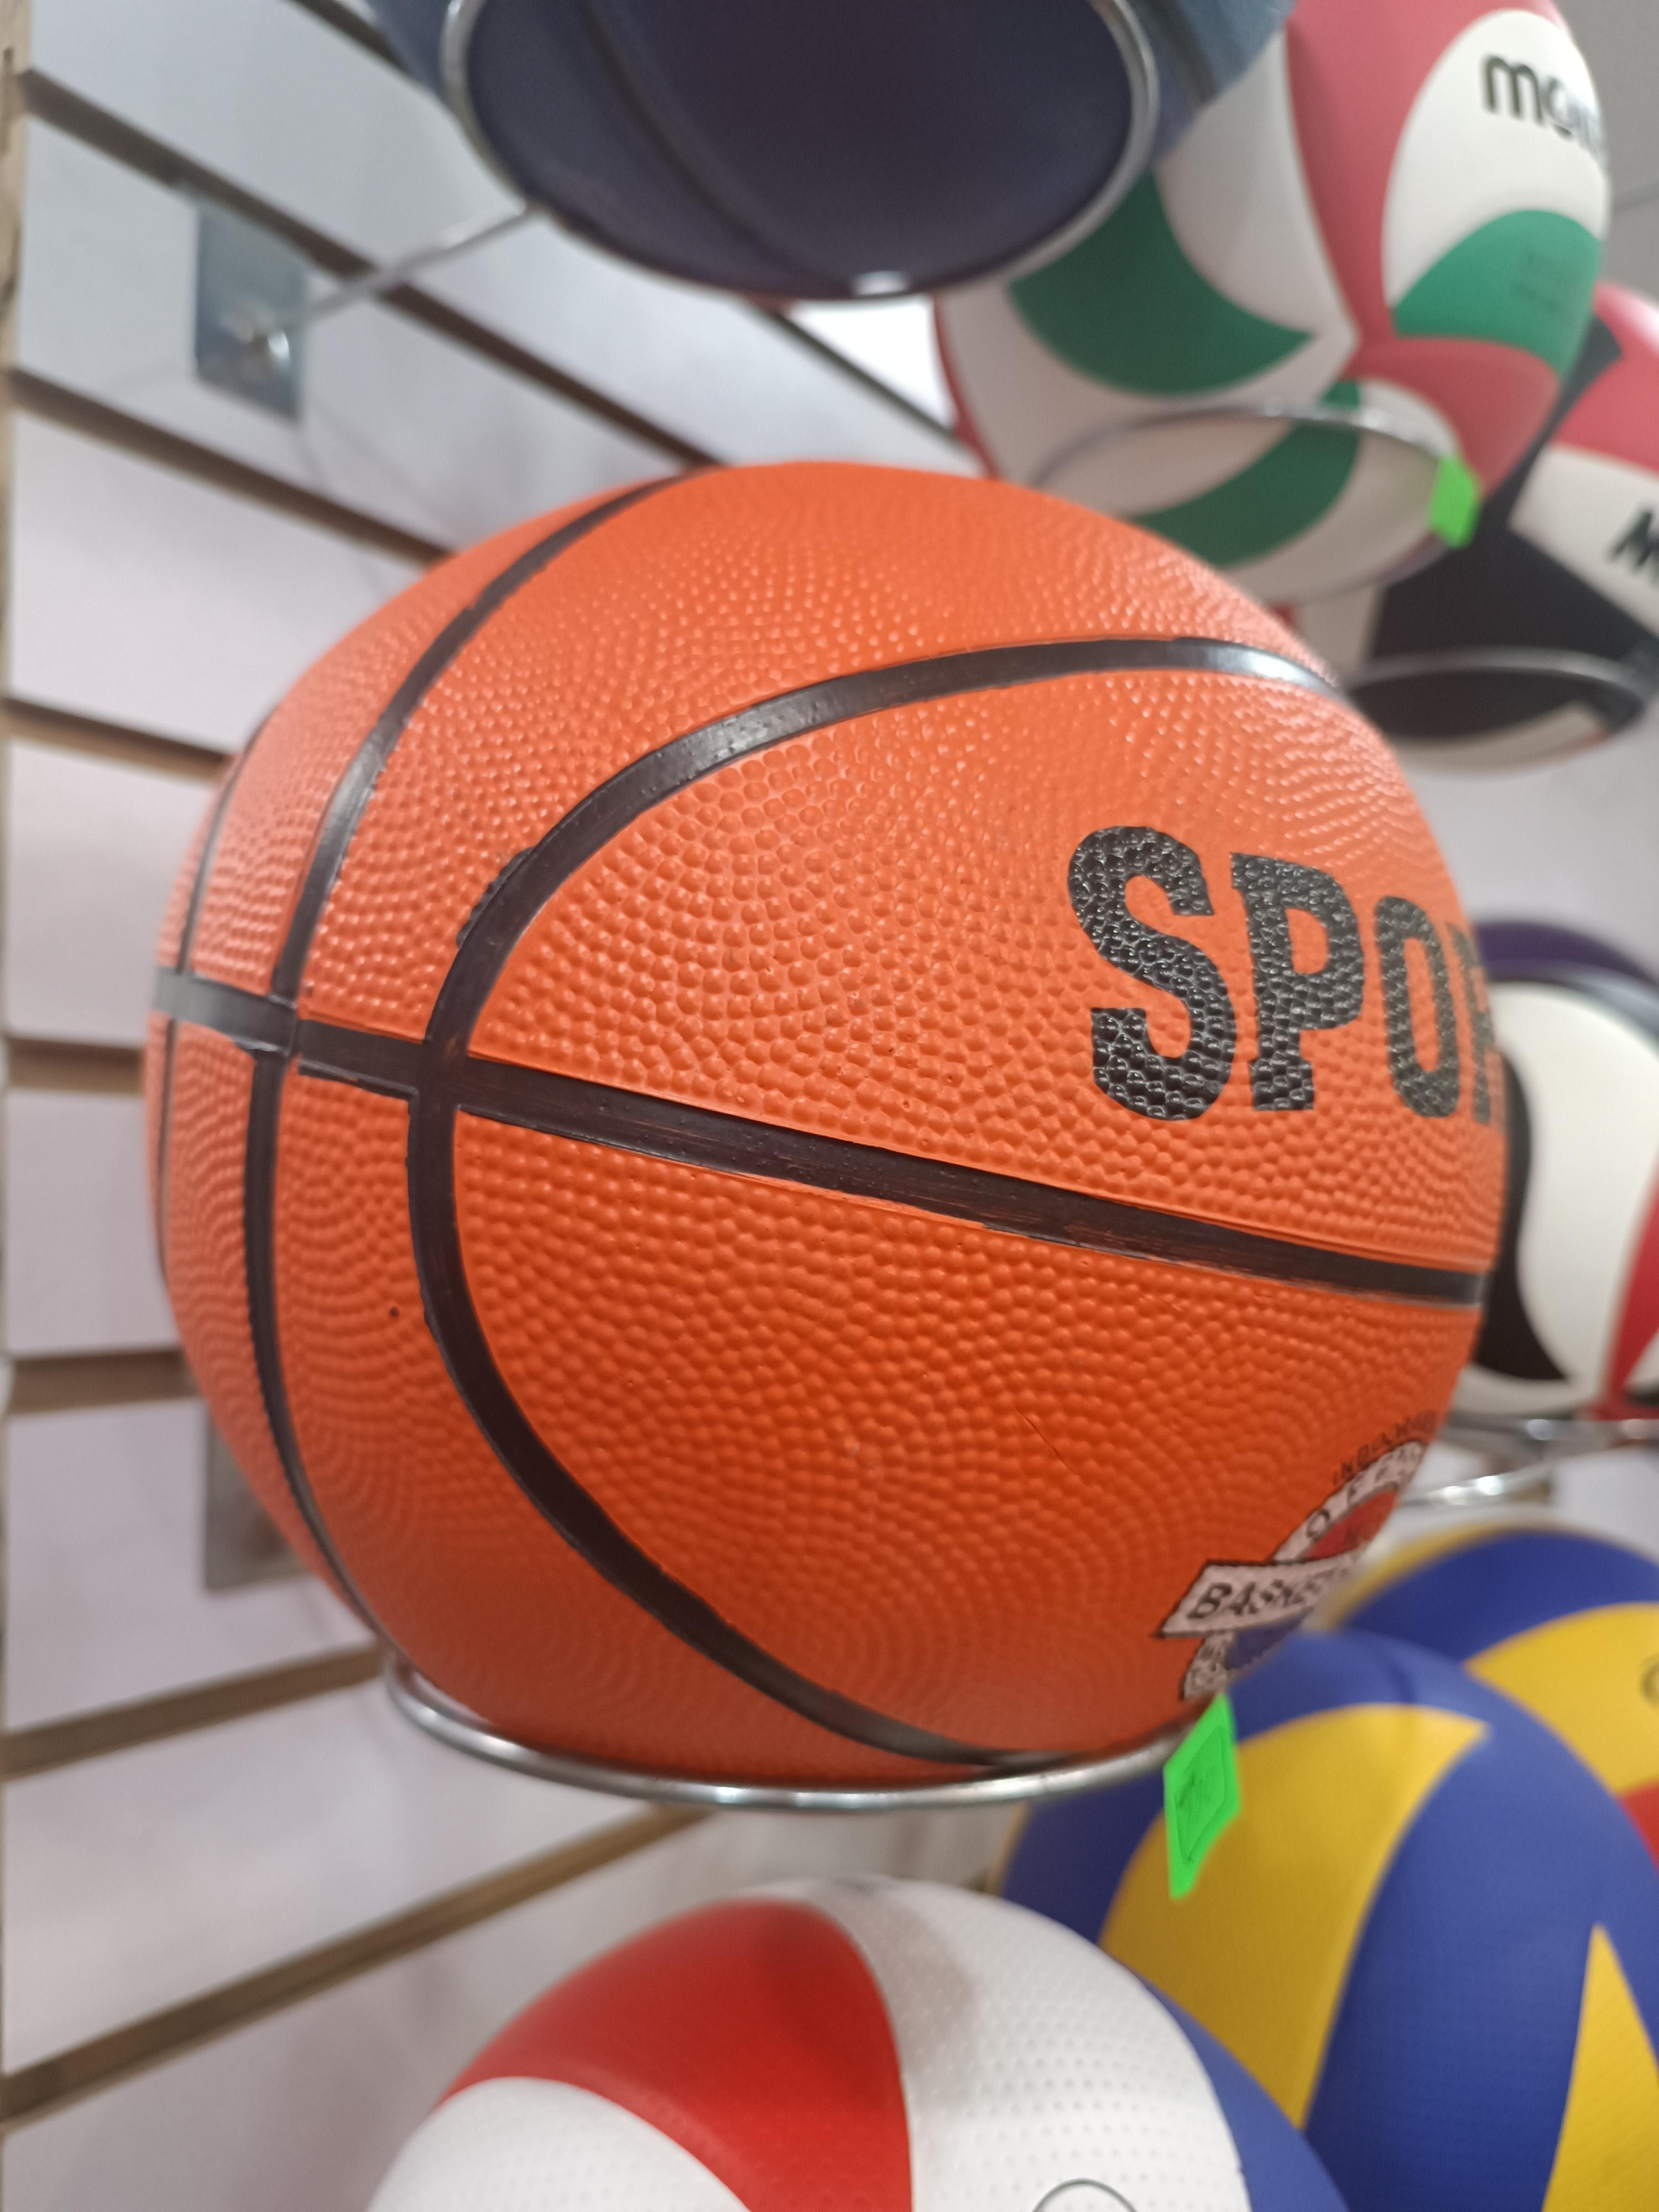Sports-Ball: (146, 462, 1504, 1806)
